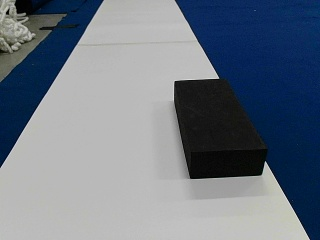block: (175, 78, 266, 178)
